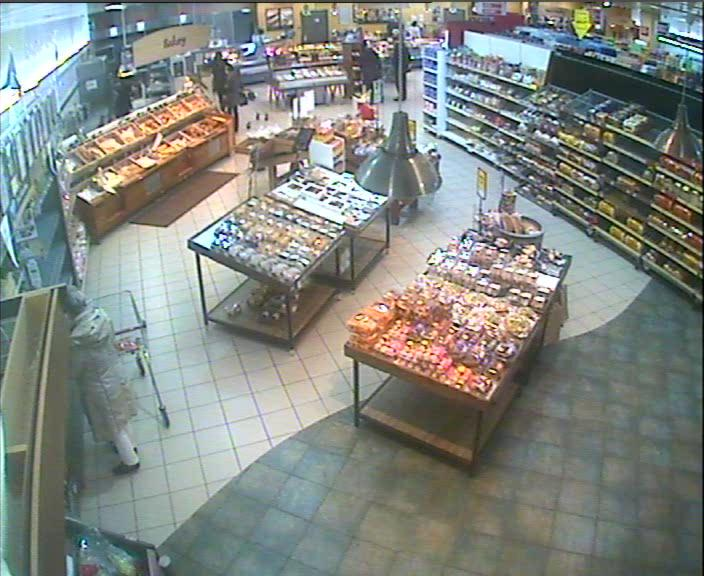filled-trolly: (84, 288, 169, 426)
person: (64, 287, 141, 475)
person-with-filled-basket-trolly: (64, 286, 169, 472)
